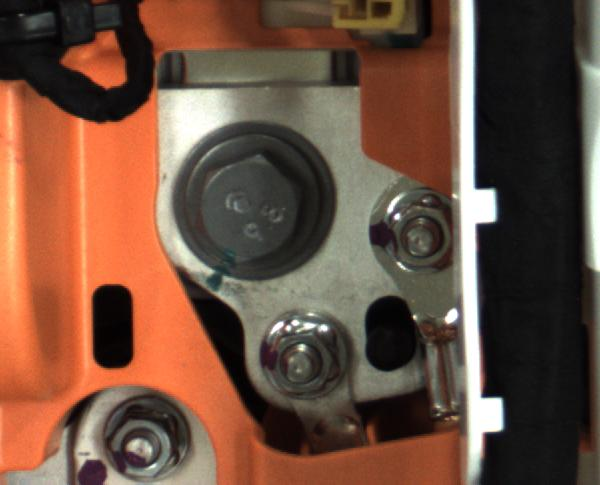nut_b: (170, 120, 322, 273)
screw_s: (266, 312, 351, 406), (382, 188, 468, 276), (103, 404, 193, 483)
